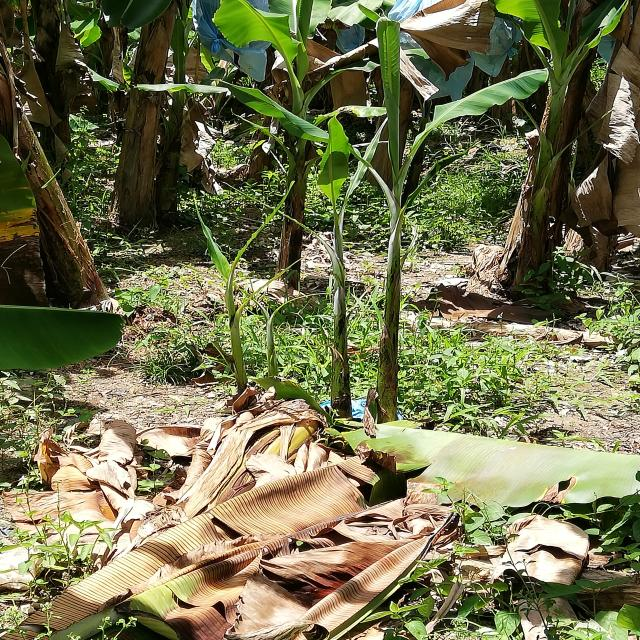Banana-plant: (498, 45, 582, 313), (120, 10, 182, 246)
